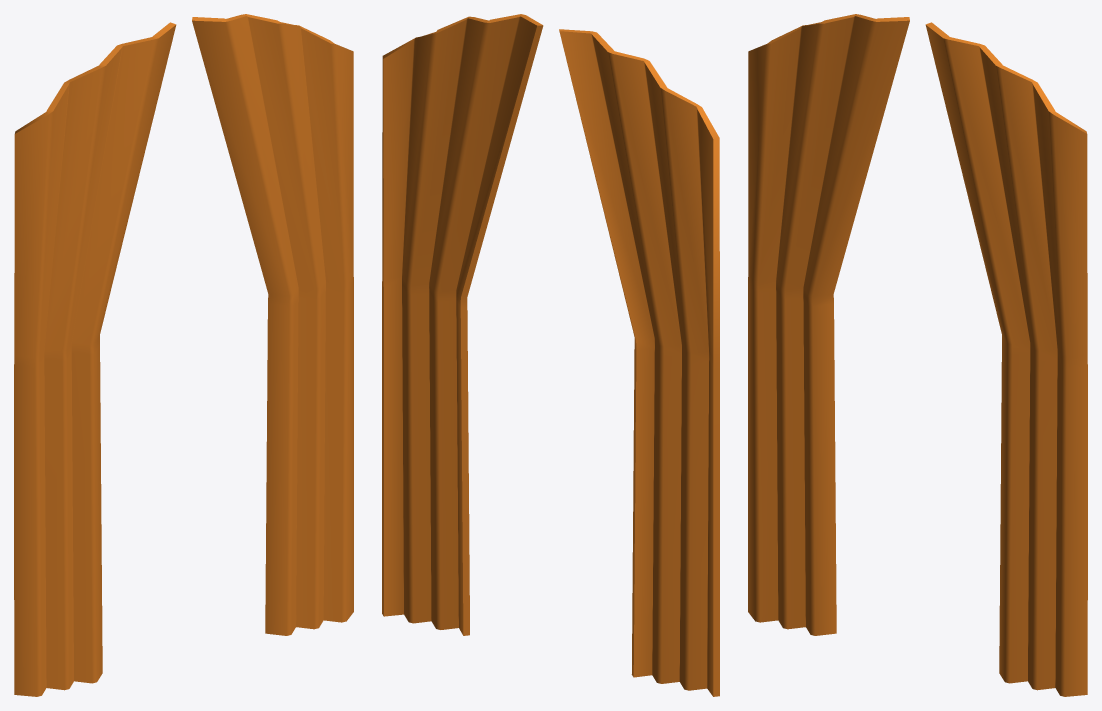
The model's file is Courtain.fbx.
3 views of the same model, side by side, from view 1: azimuth 30°, elevation 25°; view 2: azimuth 150°, elevation 25°; view 3: azimuth 330°, elevation 25° (orthographic).
Visible parts, largest first — view 1: Courtain; view 2: Courtain; view 3: Courtain.
Part boxes in pixels (box(x1,y1,x2,y2)): Courtain: box(14, 14, 353, 696); Courtain: box(382, 14, 719, 696); Courtain: box(748, 14, 1087, 696).
Bounding box in the file's own units: 322 × 573 × 17.75.
